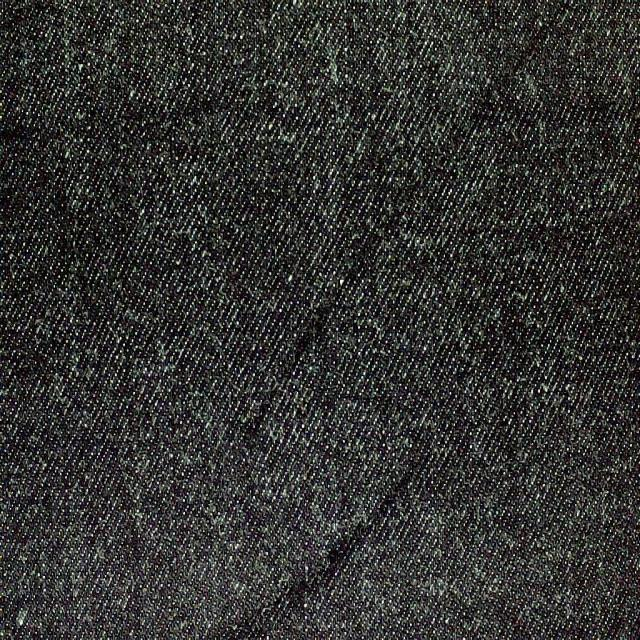defect: (232, 1, 588, 463), (202, 451, 434, 640)
